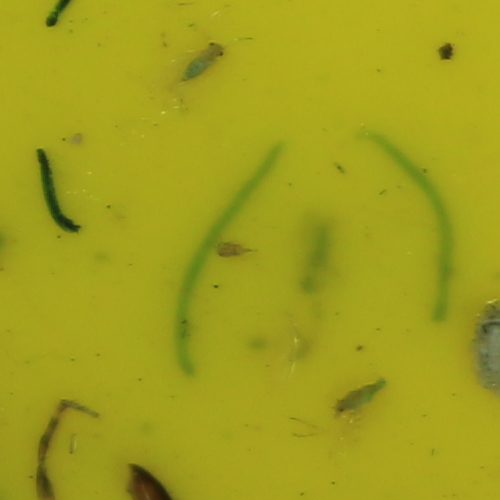Glycaspis: (172, 39, 228, 81), (333, 377, 392, 416)
